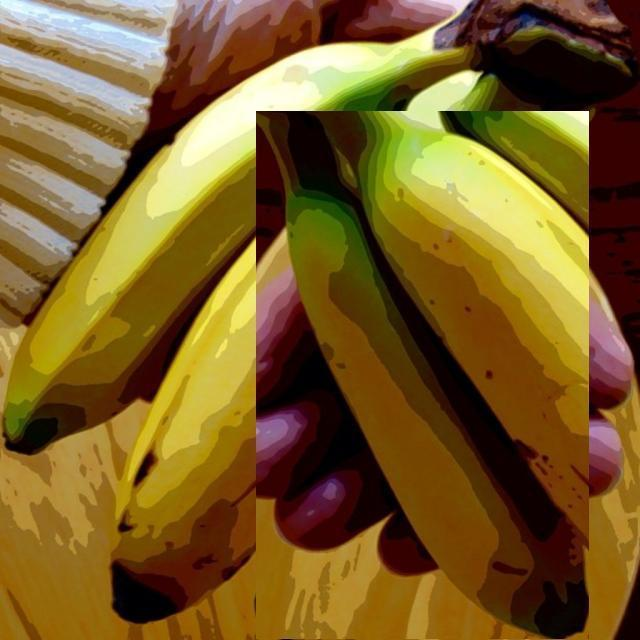Banana: (0, 0, 520, 609), (256, 111, 589, 639)
